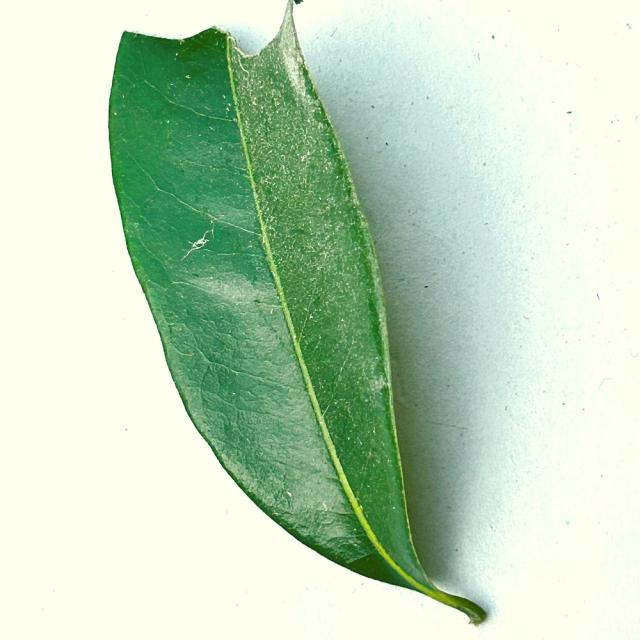Deficiency Leaf: (115, 0, 288, 54)
Lychee: (109, 6, 484, 621)
